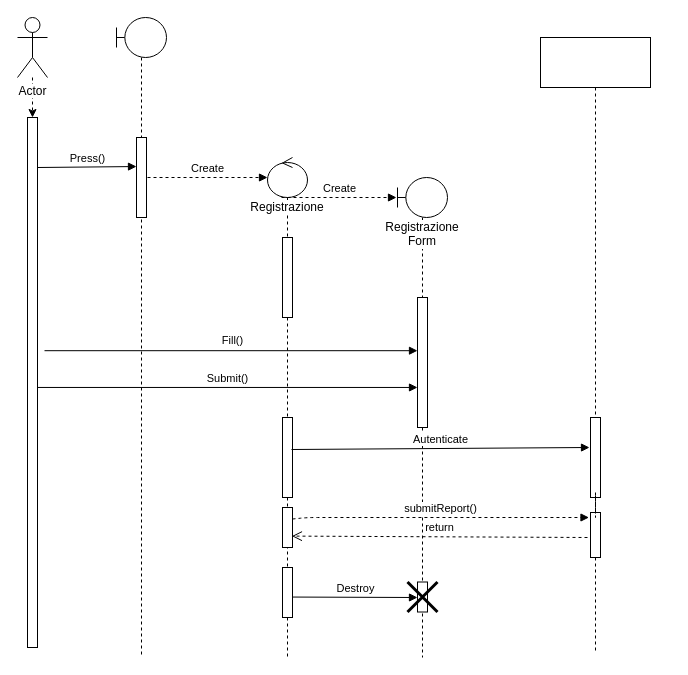
The diagram is 688 pixels wide and 675 high, and some of its shapes have lost their labels. Here are the shapes that lost their labels. From the top down, the box of each, then its label:
(540, 36, 650, 88): regisRegError Registrazione
(116, 16, 166, 658): Registrazione Button
